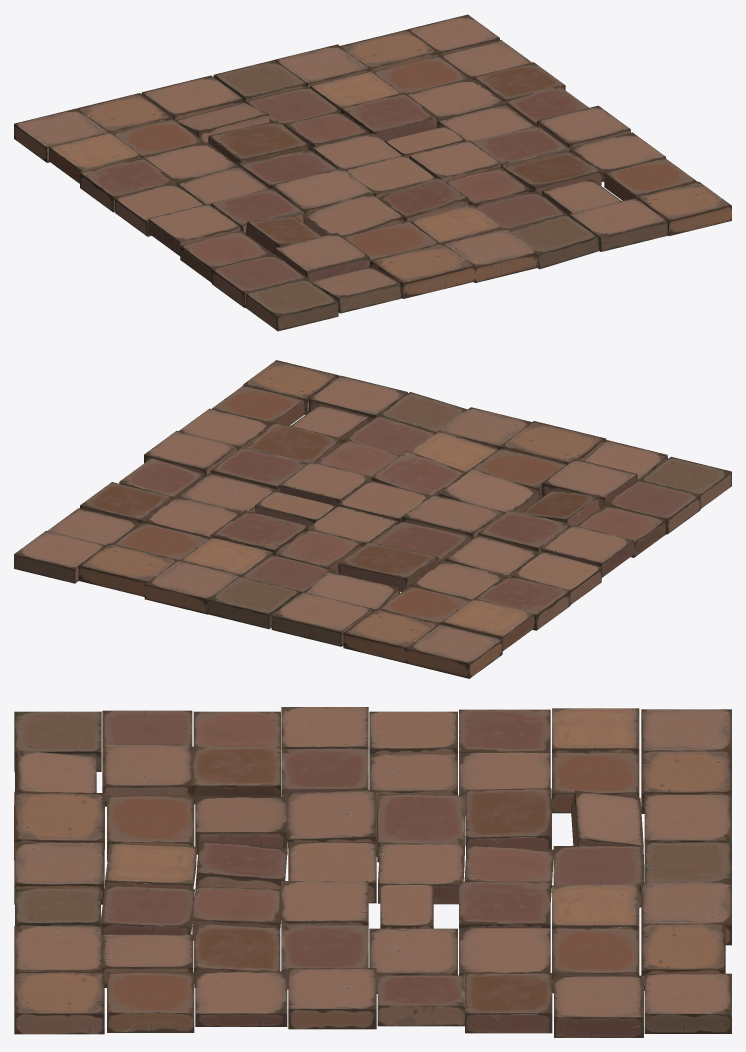
The model's file is brick-floor.glb.
3 renders of one model, top to bottom at view 1: azimuth 30°, elevation 25°; view 2: azimuth 150°, elevation 25°; view 3: azimuth 270°, elevation 25°, orthographic. The views are drawn at different scales.
Parts seen in each view (by area): view 1: PBW_B1_Floor.dmx-static; view 2: PBW_B1_Floor.dmx-static; view 3: PBW_B1_Floor.dmx-static.
Boxes of the visible parts, <box> form: PBW_B1_Floor.dmx-static: <box>14,14,731,331</box>; PBW_B1_Floor.dmx-static: <box>14,360,731,678</box>; PBW_B1_Floor.dmx-static: <box>14,707,731,1037</box>.
Size of the model in its own units: 5.42 by 0.2879 by 5.41.
1 material, 1 textured.
